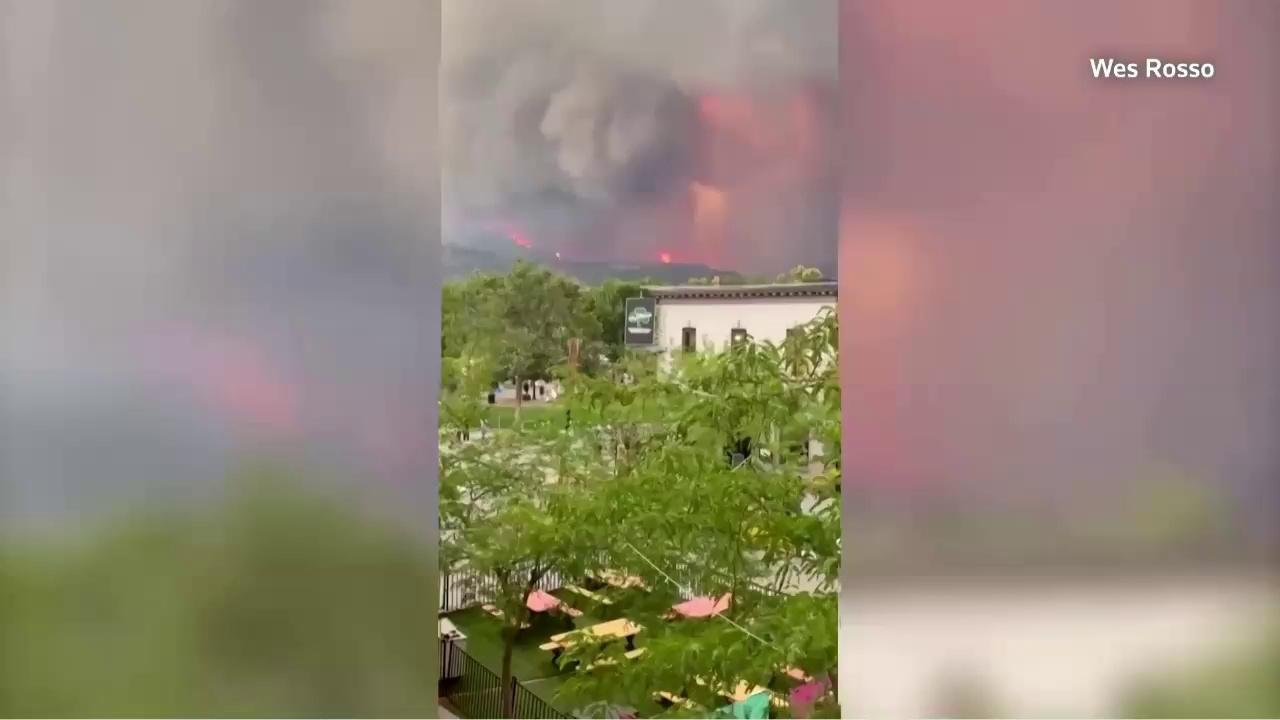fire: (499, 225, 534, 251), (657, 250, 675, 266)
smoke: (441, 0, 838, 283)
